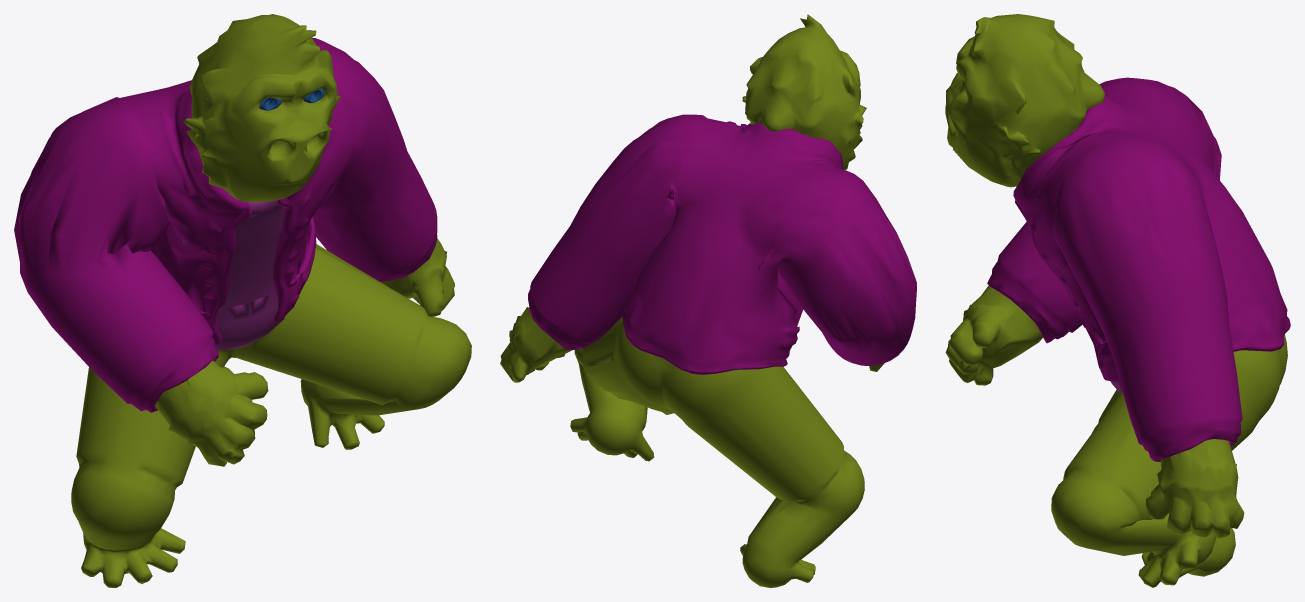
Rendered from 059kong.obj.
The picture shows the model from 3 angles, left to right: view 1: azimuth 30°, elevation 25°; view 2: azimuth 150°, elevation 25°; view 3: azimuth 270°, elevation 25°; orthographic projection. The views are drawn at different scales.
Parts seen in each view (by area): view 1: Body, Jacket, Shirt; view 2: Jacket, Body; view 3: Jacket, Body.
Part boxes in pixels (bbox=[...]): Body: bbox=[71, 14, 471, 587]; Jacket: bbox=[14, 37, 437, 412]; Shirt: bbox=[181, 194, 287, 349]; Jacket: bbox=[528, 114, 916, 374]; Body: bbox=[500, 14, 884, 587]; Jacket: bbox=[987, 77, 1290, 461]; Body: bbox=[945, 14, 1287, 587].
Bounding box in the file's own units: 6.58 × 8.33 × 4.45.
